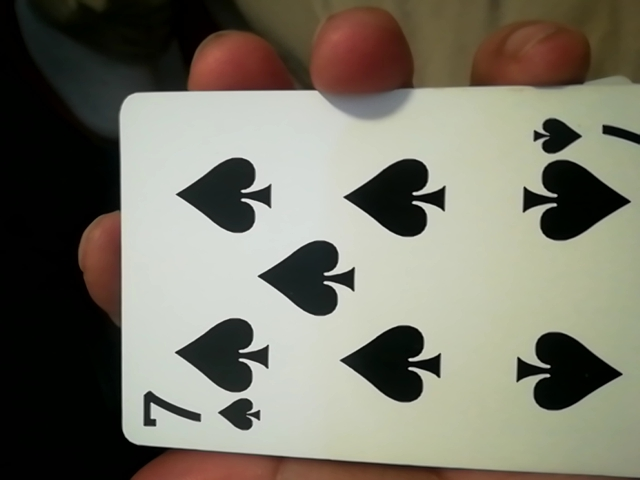ht 7: (100, 82, 638, 479)
